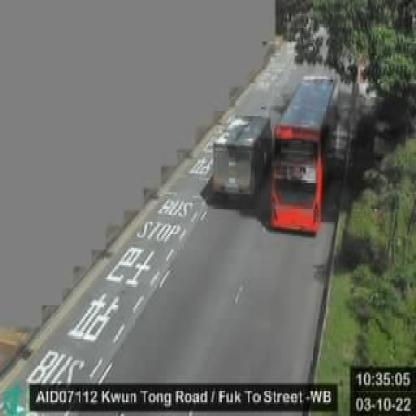Bus: (269, 73, 334, 230)
Truck: (212, 113, 270, 199)
